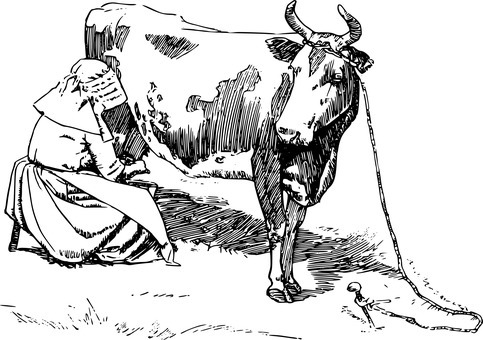cow: (84, 1, 377, 304)
person: (23, 53, 151, 185)
